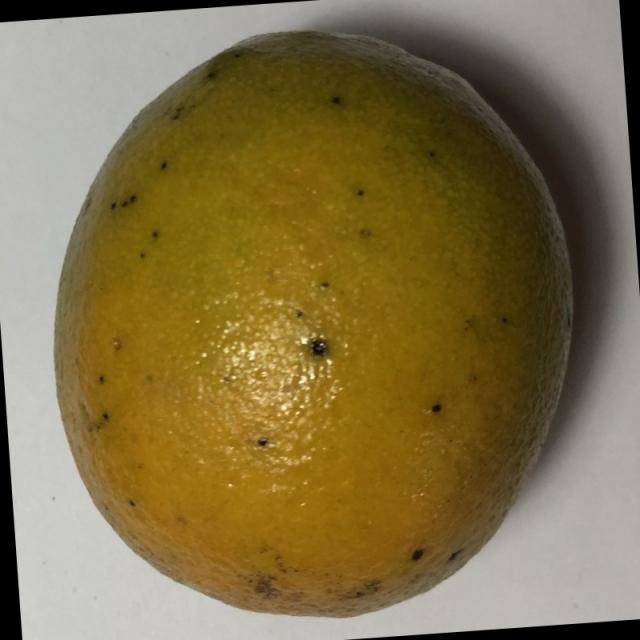blackspot: (46, 18, 585, 621)
